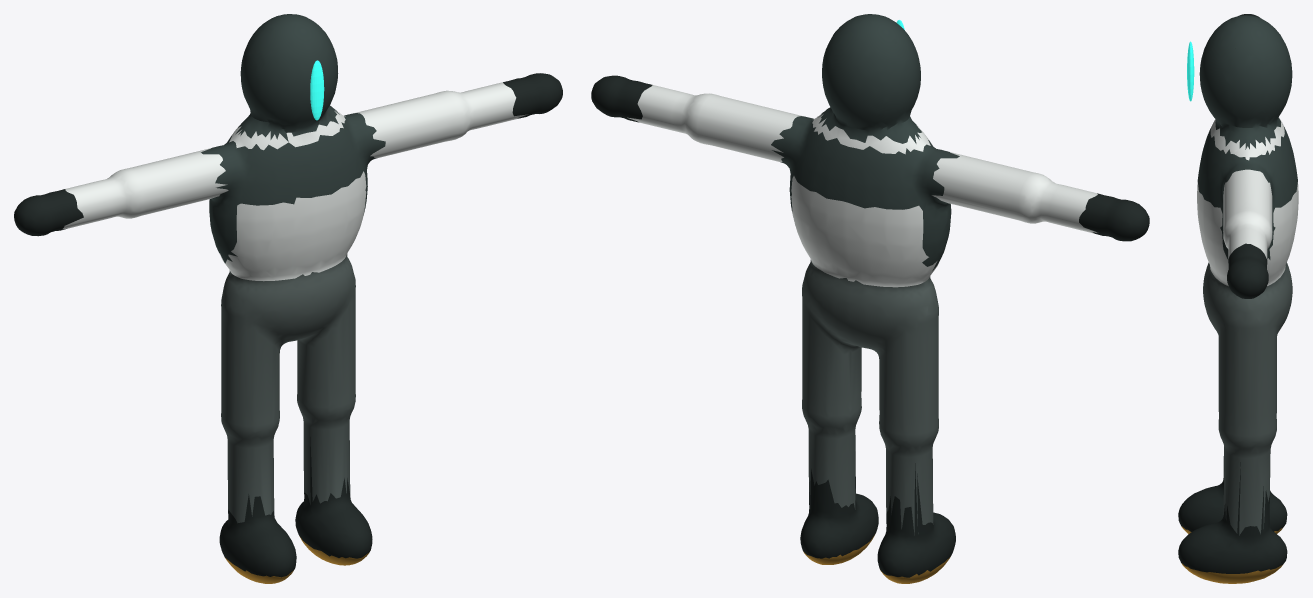
File: optical-courier-upload.fbx
3 views of the same model, side by side, from view 1: azimuth 30°, elevation 25°; view 2: azimuth 150°, elevation 25°; view 3: azimuth 270°, elevation 25° (orthographic). The views are drawn at different scales.
Parts seen in each view (by area): view 1: OpticalCourier_Body, OpticalCourier_Signal; view 2: OpticalCourier_Body; view 3: OpticalCourier_Body, OpticalCourier_Signal.
Part boxes in pixels (x1,y1,x2,y2): OpticalCourier_Body: [14, 14, 562, 583]; OpticalCourier_Signal: [310, 60, 324, 120]; OpticalCourier_Body: [591, 14, 1149, 583]; OpticalCourier_Body: [1178, 14, 1298, 583]; OpticalCourier_Signal: [1187, 41, 1194, 101].
Size of the model in its own units: 208 by 39.98 by 199.
